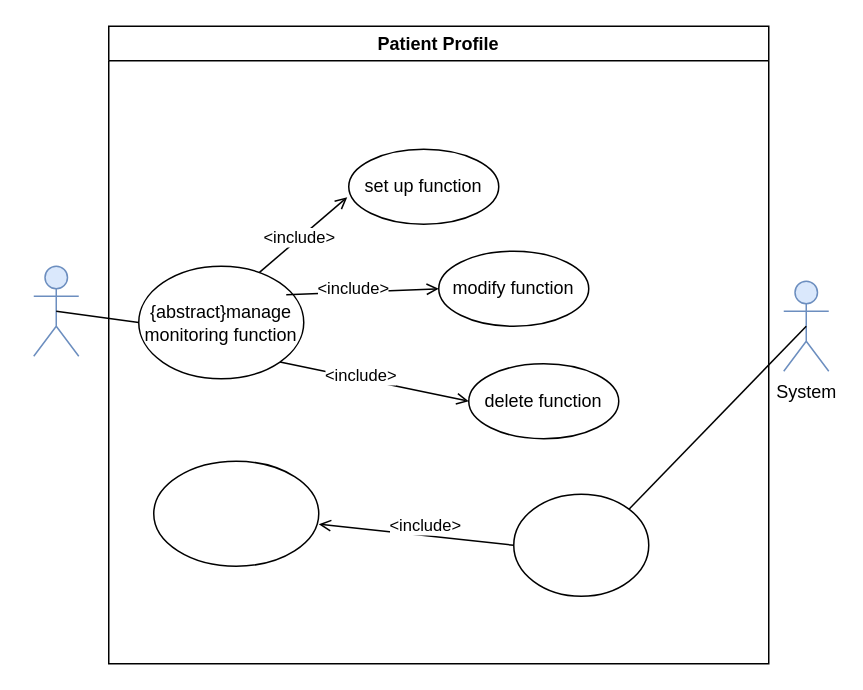
Image size: 863x690. Some labels were removed from this diagram. The shapes that lost their labels are listed below. From the top down, each one's centre as x and y in pixels, then its label:
At point (55, 310): "Doctors".
At point (235, 513): "function saw abnormal result".
At point (580, 544): "email notification to doctor".
